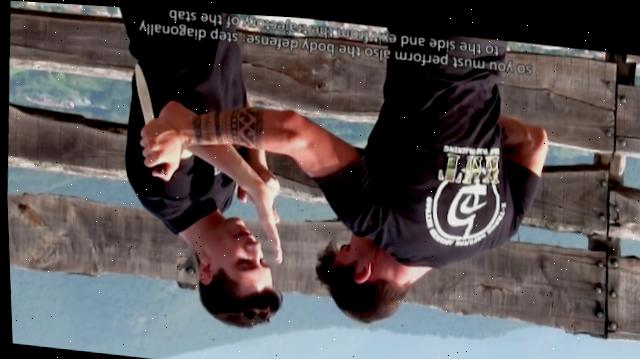pocket-knife: (123, 58, 174, 176)
